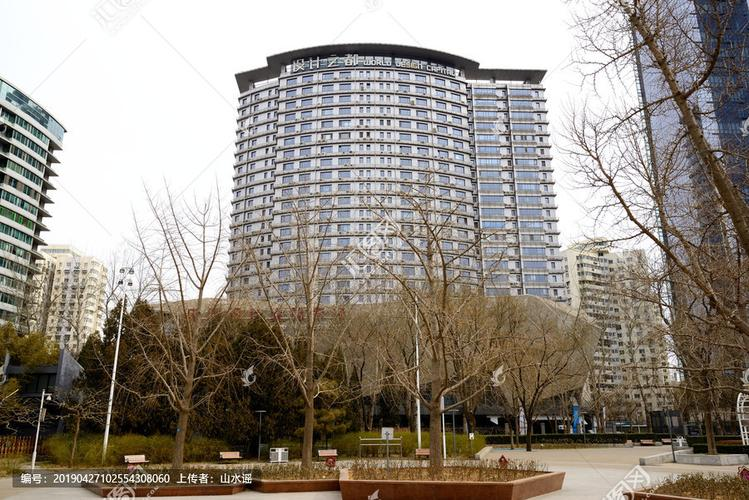buildings: (224, 72, 568, 406), (544, 233, 681, 428), (0, 80, 63, 424)
